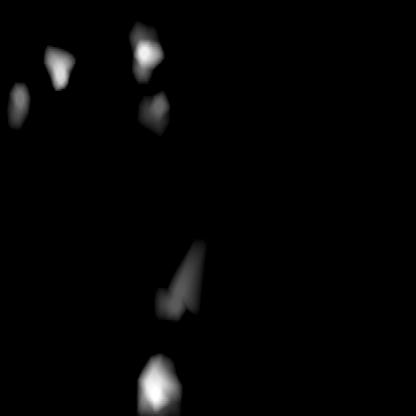fingers: (136, 350, 178, 413)
palm: (6, 29, 164, 131)
